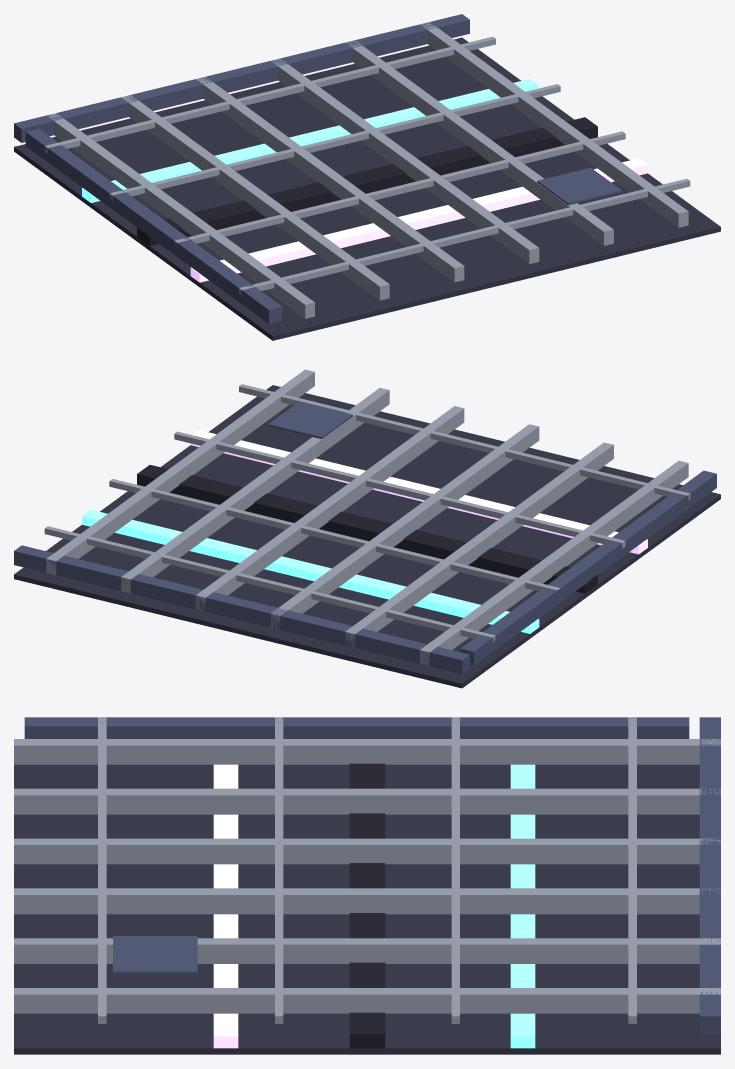
Rendered from boden_gitterrost_b.glb.
3 views of the same model, one above another, from view 1: azimuth 30°, elevation 25°; view 2: azimuth 150°, elevation 25°; view 3: azimuth 270°, elevation 25° (orthographic). The views are drawn at different scales.
Visible parts, largest first — view 1: boden_gitterrost_b; view 2: boden_gitterrost_b; view 3: boden_gitterrost_b.
Part boxes in pixels (<box>): boden_gitterrost_b: <box>14,14,720,340</box>; boden_gitterrost_b: <box>14,369,720,688</box>; boden_gitterrost_b: <box>14,717,720,1054</box>.
Size of the model in its own units: 1 by 0.064 by 1.
